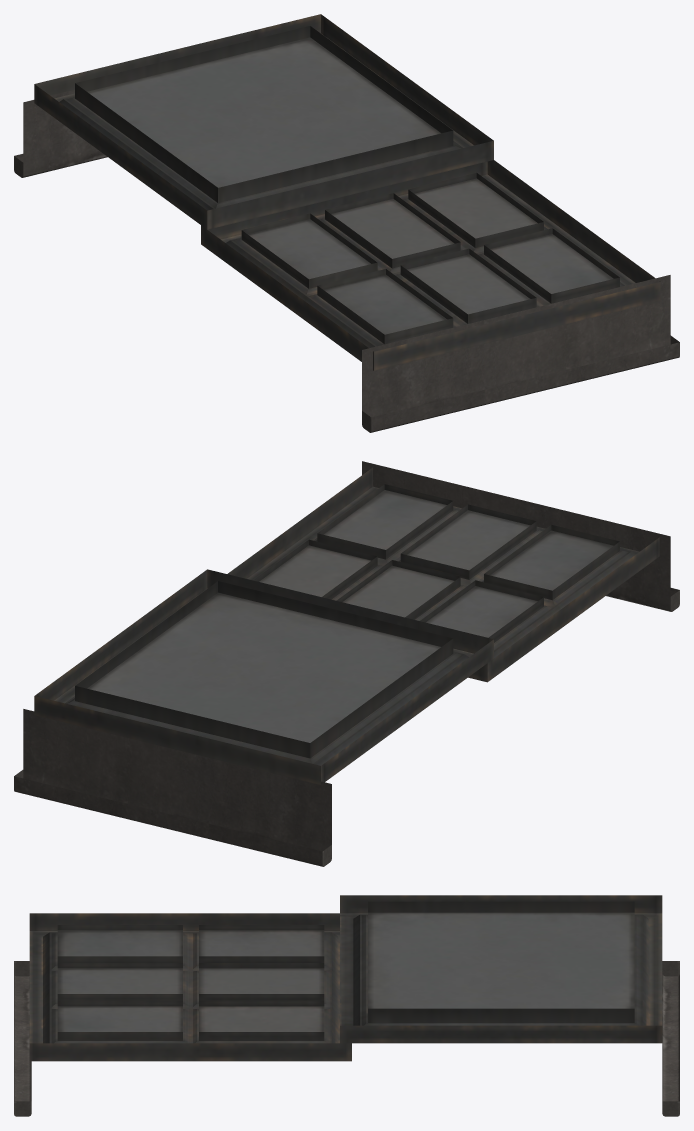
File: window_centered_small_03.gltf
The picture shows the model from 3 angles, top to bottom: view 1: azimuth 30°, elevation 25°; view 2: azimuth 150°, elevation 25°; view 3: azimuth 270°, elevation 25°; orthographic projection. The views are drawn at different scales.
Visible parts, largest first — view 1: window_centered_small_03; view 2: window_centered_small_03; view 3: window_centered_small_03.
Boxes of the visible parts, left/top/right/bottom form: window_centered_small_03: left=14, top=14, right=679, bottom=432; window_centered_small_03: left=14, top=461, right=679, bottom=866; window_centered_small_03: left=14, top=895, right=679, bottom=1116.
Size of the model in its own units: 0.84 by 0.2549 by 1.68.
Materials: 3 (3 with a texture image).
